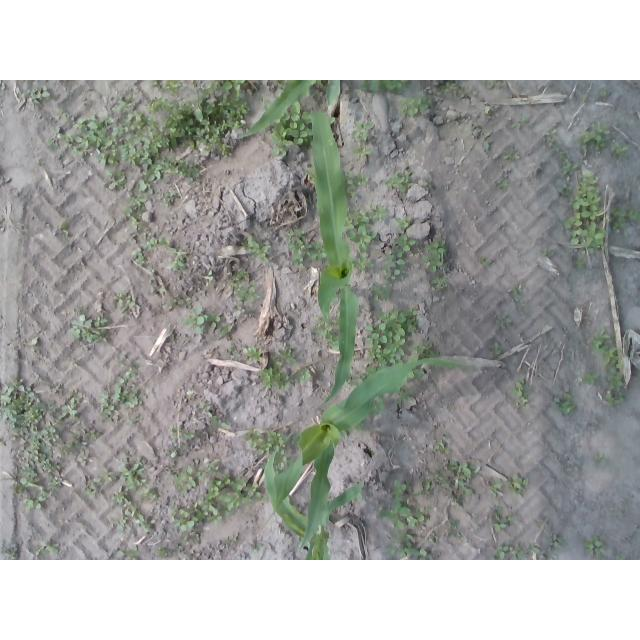Maize: (264, 358, 475, 551), (311, 109, 362, 408), (265, 430, 366, 560), (237, 80, 318, 142), (326, 81, 342, 106)
Weeds: (49, 80, 252, 238), (1, 379, 103, 514), (381, 458, 483, 560), (344, 203, 448, 299), (168, 444, 264, 542), (84, 448, 156, 537), (565, 174, 611, 271), (100, 349, 145, 428), (360, 307, 416, 363), (592, 327, 627, 407), (542, 129, 579, 197), (132, 236, 191, 273), (490, 533, 562, 560), (243, 428, 287, 471), (273, 115, 312, 161), (286, 228, 322, 273), (68, 308, 111, 345), (225, 268, 259, 312), (580, 118, 613, 163), (197, 401, 232, 434), (353, 120, 376, 166), (182, 307, 222, 333), (489, 474, 530, 499), (511, 376, 537, 413), (610, 204, 640, 236), (240, 237, 272, 266), (400, 92, 433, 116), (313, 317, 340, 346), (492, 504, 517, 534), (259, 366, 290, 390), (231, 343, 266, 364), (110, 289, 139, 314), (384, 172, 412, 197), (150, 81, 185, 100), (552, 392, 577, 417), (270, 347, 298, 369), (167, 296, 202, 313), (361, 80, 406, 93), (346, 172, 370, 196), (25, 84, 52, 104), (290, 368, 314, 389), (507, 283, 531, 304), (432, 432, 452, 457), (585, 534, 604, 559), (411, 343, 437, 360), (150, 272, 167, 297), (493, 314, 515, 331), (611, 141, 630, 160), (172, 427, 196, 442), (398, 386, 414, 408), (481, 127, 494, 153), (512, 116, 533, 132), (115, 548, 142, 560), (42, 540, 62, 556), (155, 546, 177, 560), (582, 367, 598, 386), (502, 147, 522, 162), (597, 89, 616, 104), (203, 269, 217, 287), (477, 256, 496, 269), (222, 535, 239, 549), (486, 81, 506, 92), (496, 179, 511, 193), (443, 81, 458, 95), (410, 368, 426, 381), (60, 222, 73, 238), (537, 248, 556, 257), (221, 326, 234, 339), (489, 341, 501, 355), (254, 544, 268, 555), (35, 155, 45, 170), (485, 103, 494, 118), (596, 451, 609, 461), (32, 336, 41, 349), (277, 81, 287, 92), (419, 179, 430, 189), (317, 81, 330, 88), (0, 217, 6, 231), (611, 506, 621, 514), (583, 95, 590, 106), (188, 390, 196, 399), (0, 177, 6, 188), (616, 556, 628, 561)
